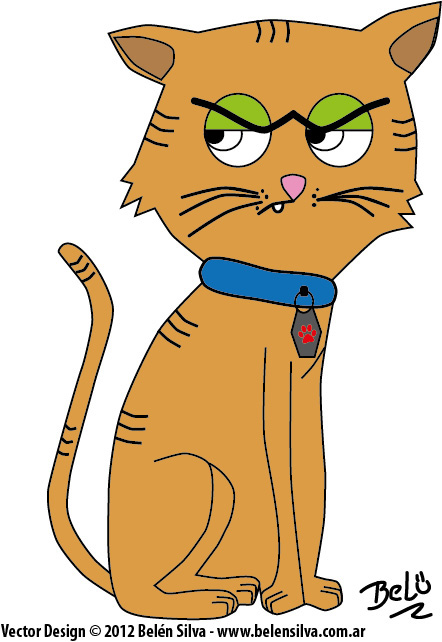cat: (41, 1, 442, 642)
